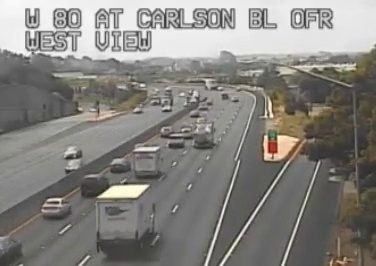car: (80, 174, 108, 196), (41, 198, 70, 217), (109, 158, 129, 173), (168, 134, 184, 148), (179, 127, 193, 138), (160, 126, 173, 137)
small-truck: (96, 184, 155, 256), (133, 146, 161, 177)
